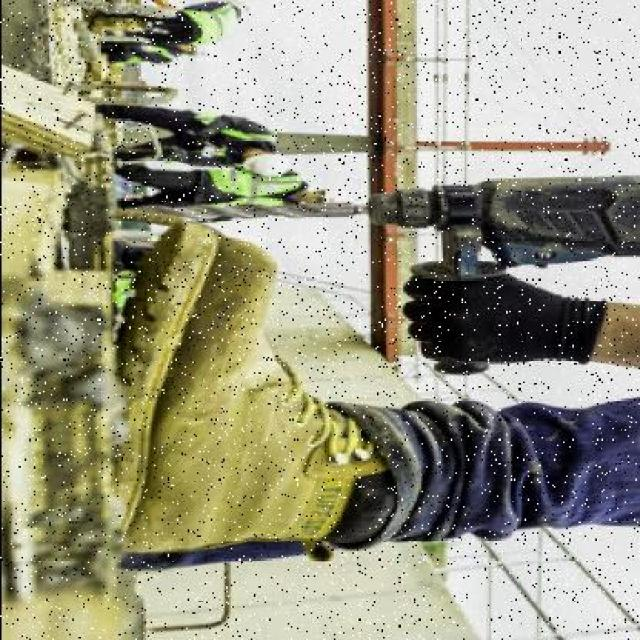shoes: (107, 236, 370, 569)
